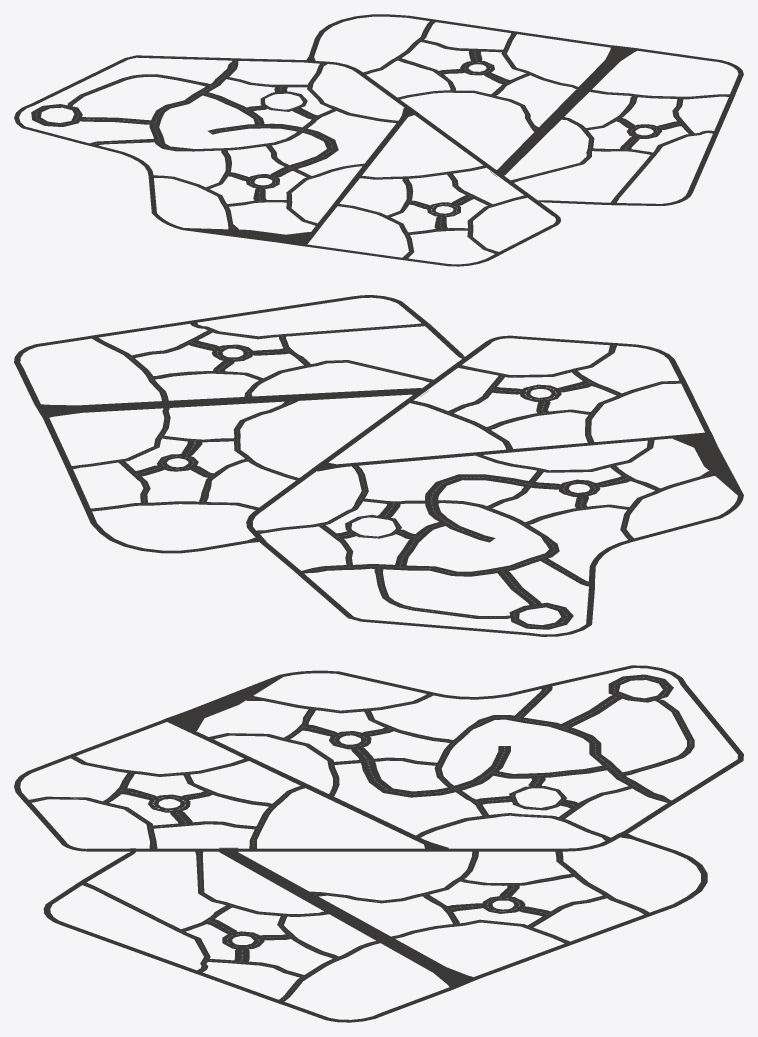
Rendered from 3Carros.fbx.
The picture shows the model from 3 angles, top to bottom: view 1: azimuth 30°, elevation 25°; view 2: azimuth 150°, elevation 25°; view 3: azimuth 270°, elevation 25°; orthographic projection. The views are drawn at different scales.
Visible parts, largest first — view 1: Cube.017; view 2: Cube.017; view 3: Cube.017.
Boxes of the visible parts, x1,y1,x2,y2 form: Cube.017: [14, 14, 743, 266]; Cube.017: [14, 295, 743, 636]; Cube.017: [14, 665, 743, 1022].
Size of the model in its own units: 239602 by 238 by 206931.
